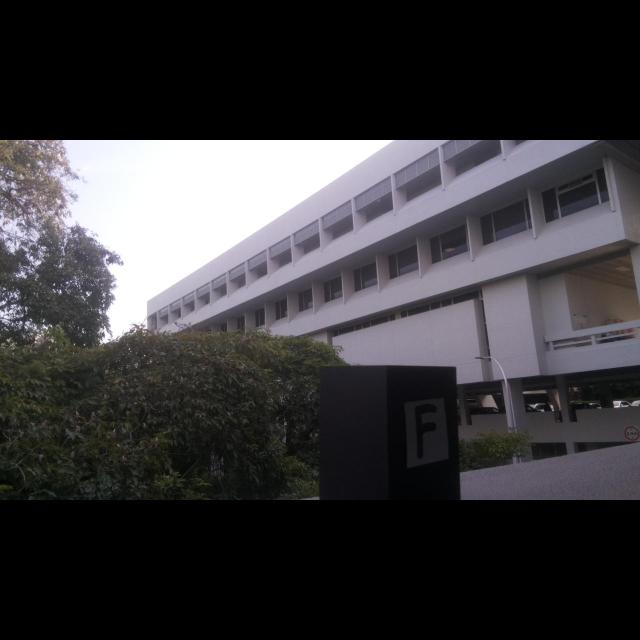F: (415, 404, 437, 460)
